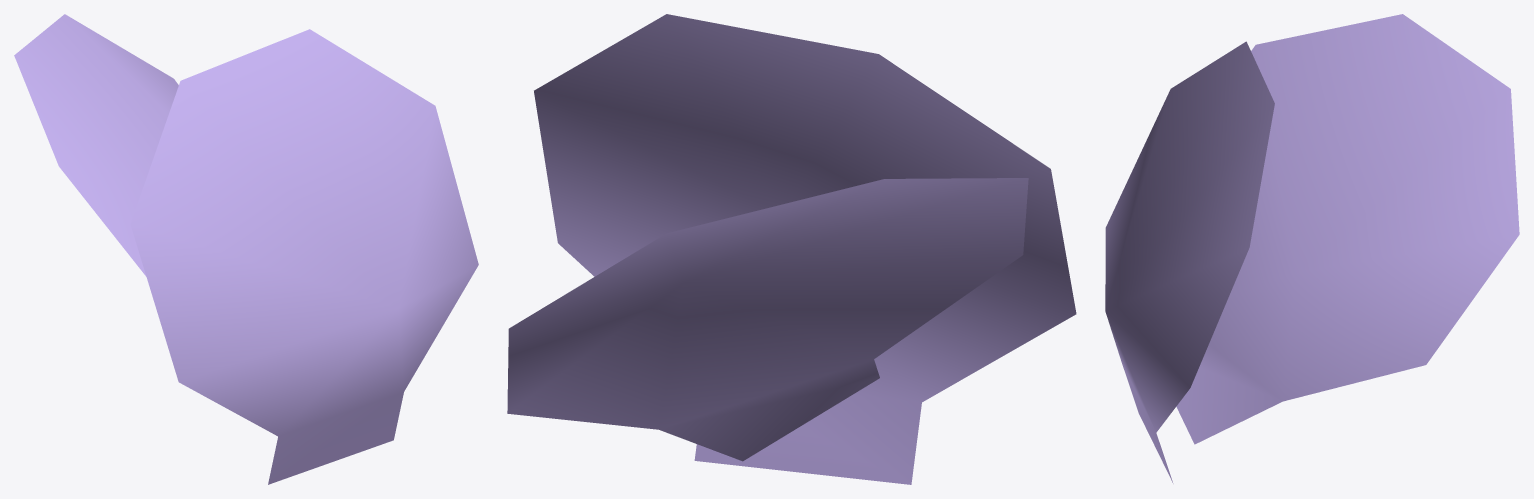
Rendered from ytlds_Object (7).fbx.
3 renders of one model, left to right at view 1: azimuth 30°, elevation 25°; view 2: azimuth 150°, elevation 25°; view 3: azimuth 270°, elevation 25°, orthographic. The views are drawn at different scales.
Parts seen in each view (by area): view 1: Object07; view 2: Object07; view 3: Object07.
Boxes of the visible parts, bbox=[...] form: Object07: bbox=[14, 14, 478, 484]; Object07: bbox=[507, 14, 1076, 484]; Object07: bbox=[1105, 14, 1519, 483].
Size of the model in its own units: 144 by 135 by 139.
